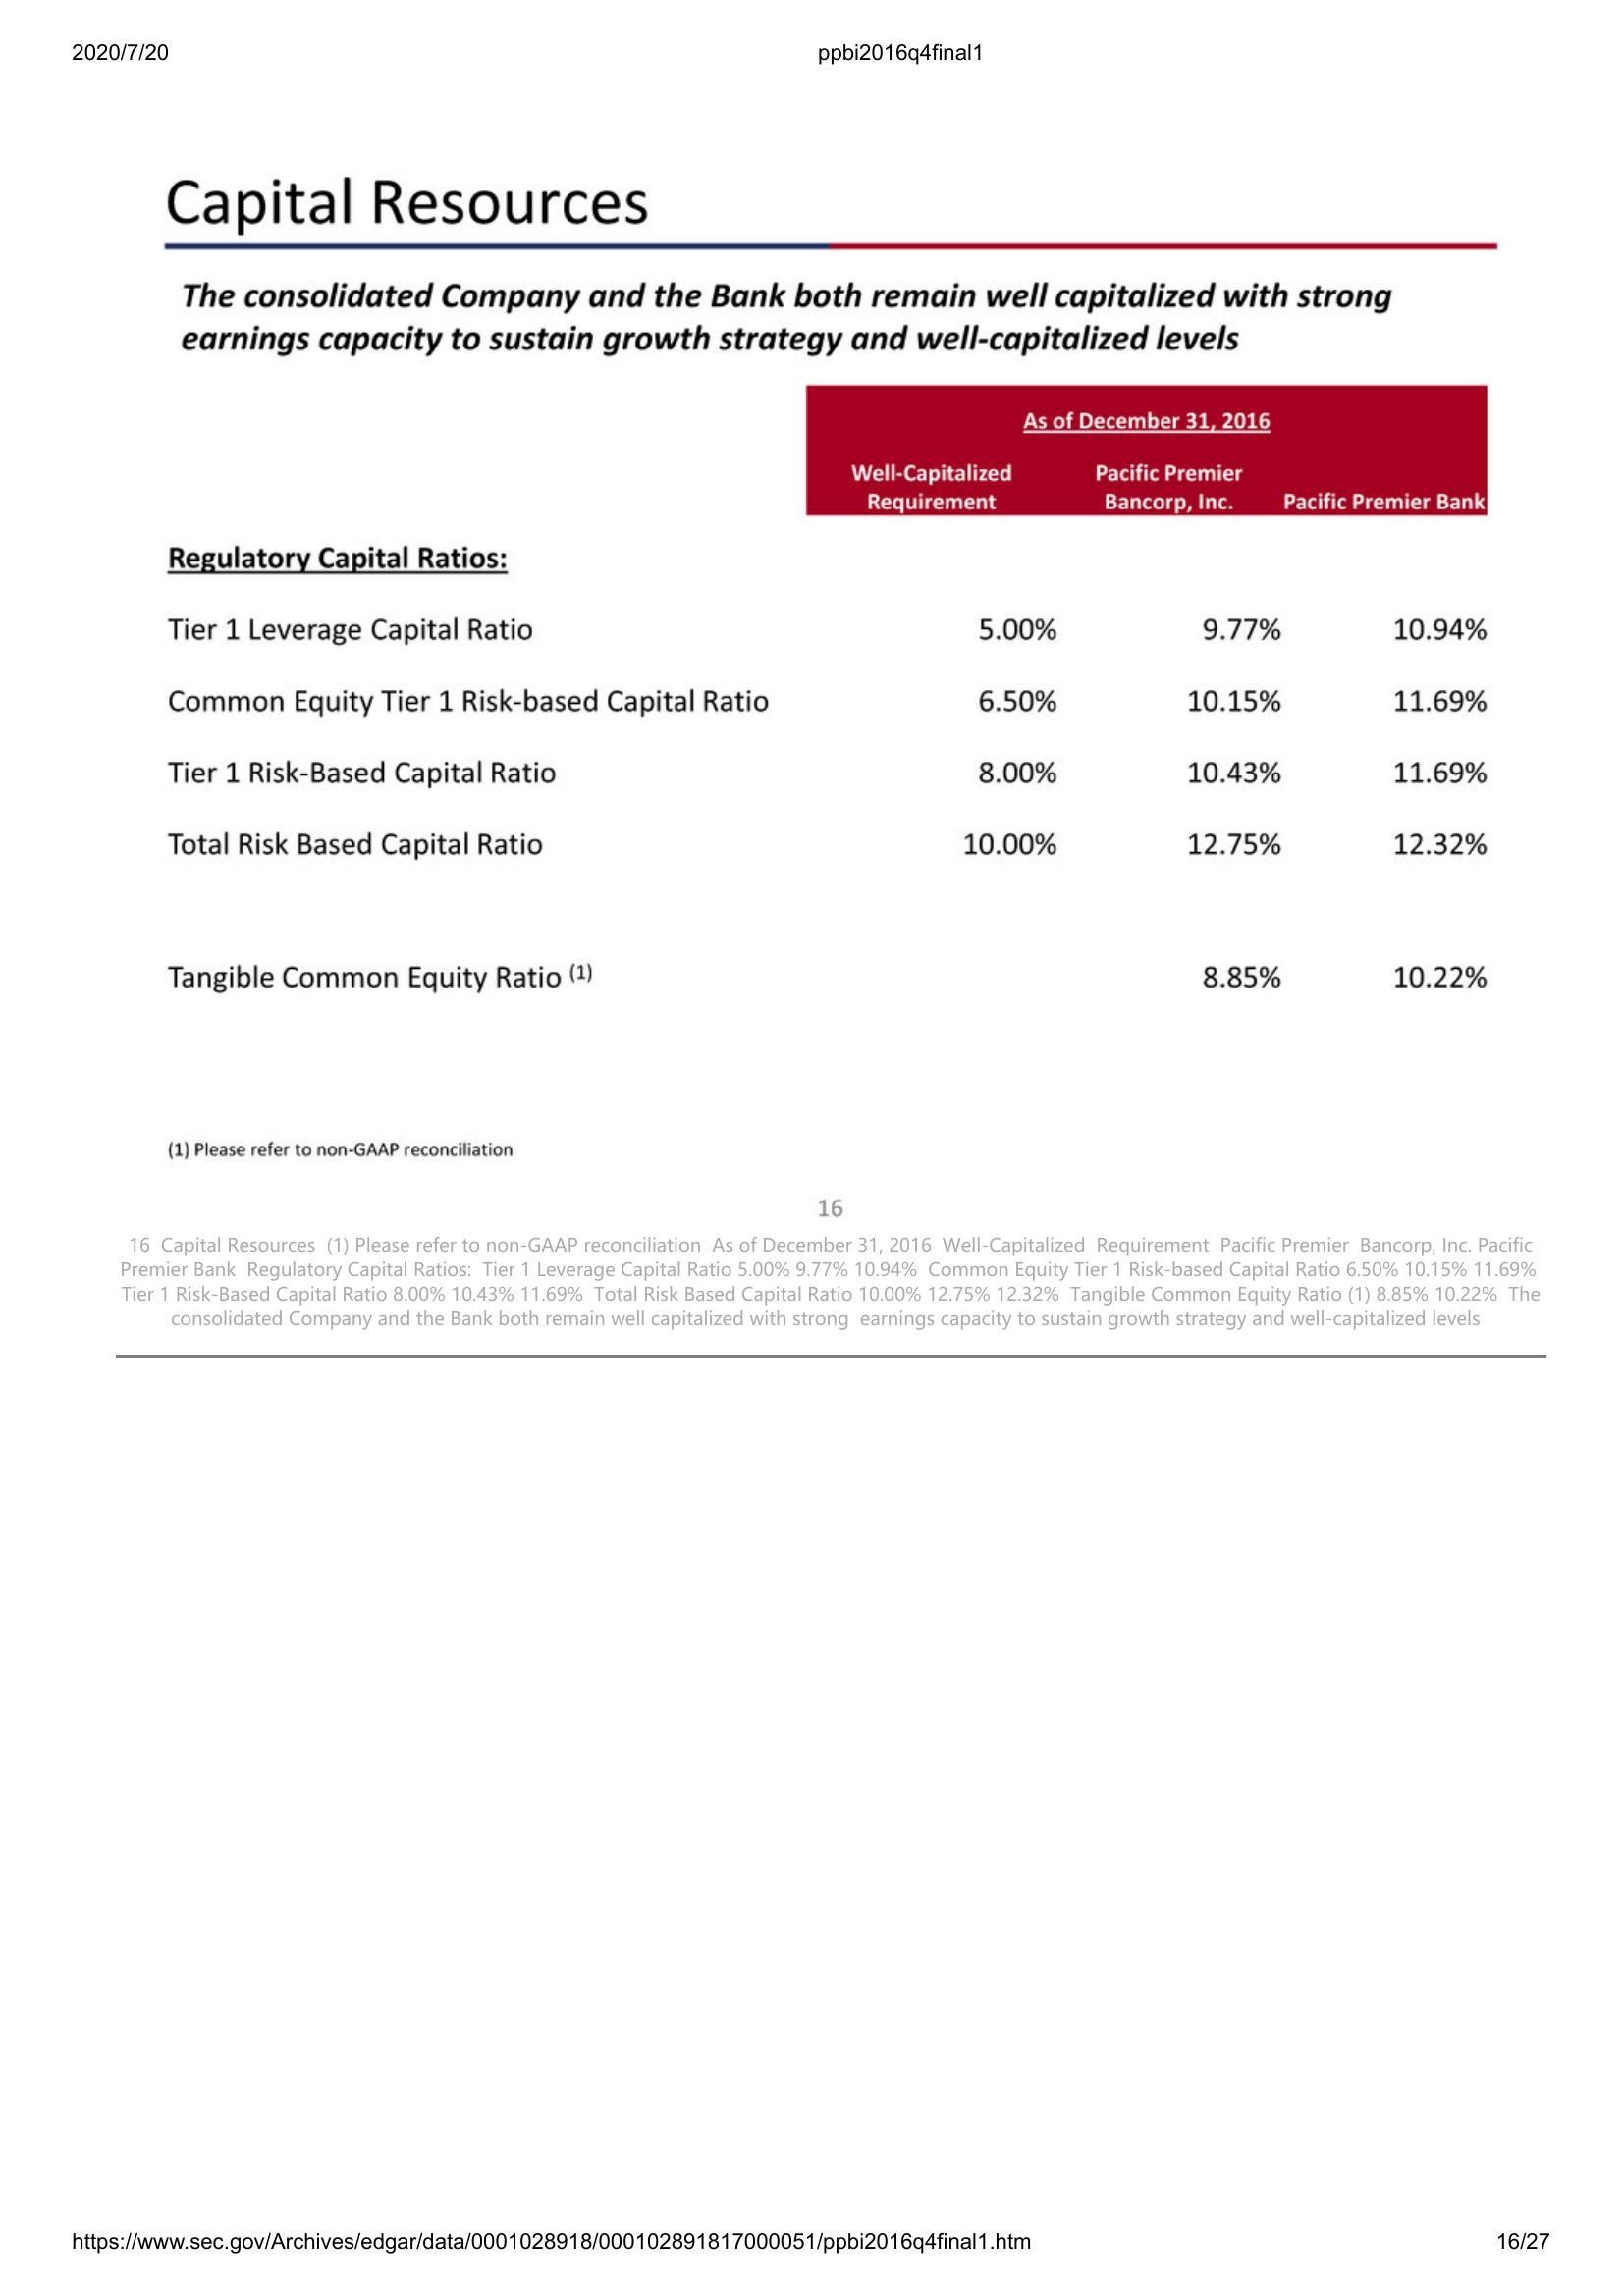table: (162, 535, 1498, 1009)
